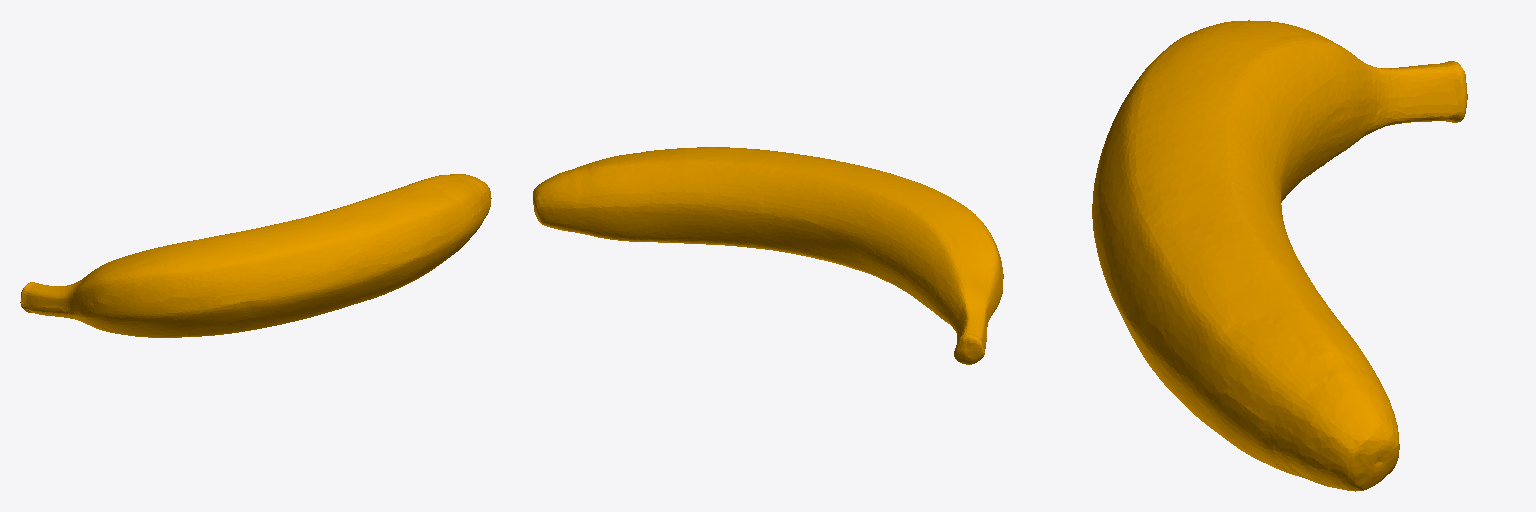
URDF robot description (model.urdf):
<?xml version="0.0" ?>
<robot name="model.urdf">
  <link name="baseLink">
    <contact>
      <friction_anchor/>
      <lateral_friction value="0.3"/>
      <rolling_friction value="0.0"/>
      <contact_cfm value="0.0"/>
      <contact_erp value="1.0"/>
    </contact>
    <inertial>
      <origin rpy="0 0 0" xyz="0 0 0"/>
      <mass value="0.1"/>
      <inertia ixx="3.e-04" ixy="0" ixz="0" iyy="1.6e-04" iyz="0" izz="3.e-04"/>
    </inertial>
    <visual>
      <geometry>
        <mesh filename="textured.dae" scale="1 1 1"/>
      </geometry>
      <material name="white">
        <color rgba="1.0, 1.0, 0.0 1."/>
      </material>
    </visual>
    <collision>
      <geometry>
    	 	<mesh filename="textured.dae" scale="1 1 1"/>
      </geometry>
    </collision>
  </link>
</robot>

--- Render facts (derived) ---
The picture shows the robot from 3 angles, left to right: view 1: azimuth 30°, elevation 25°; view 2: azimuth 150°, elevation 25°; view 3: azimuth 270°, elevation 25°; orthographic projection.
Model model.urdf with 1 links and 0 joints (none), rooted at baseLink, posed every joint at zero.
Links seen in each view (by area): view 1: baseLink; view 2: baseLink; view 3: baseLink.
Boxes of the visible links, x1,y1,x2,y2 form: baseLink: (20,174,491,337); baseLink: (533,147,1003,364); baseLink: (1092,20,1467,491).
Size in the robot's own frame: 0.1967 by 0.0746 by 0.0367 metres.
1 mesh visuals loaded from 1 distinct referenced files (1 Collada DAE).